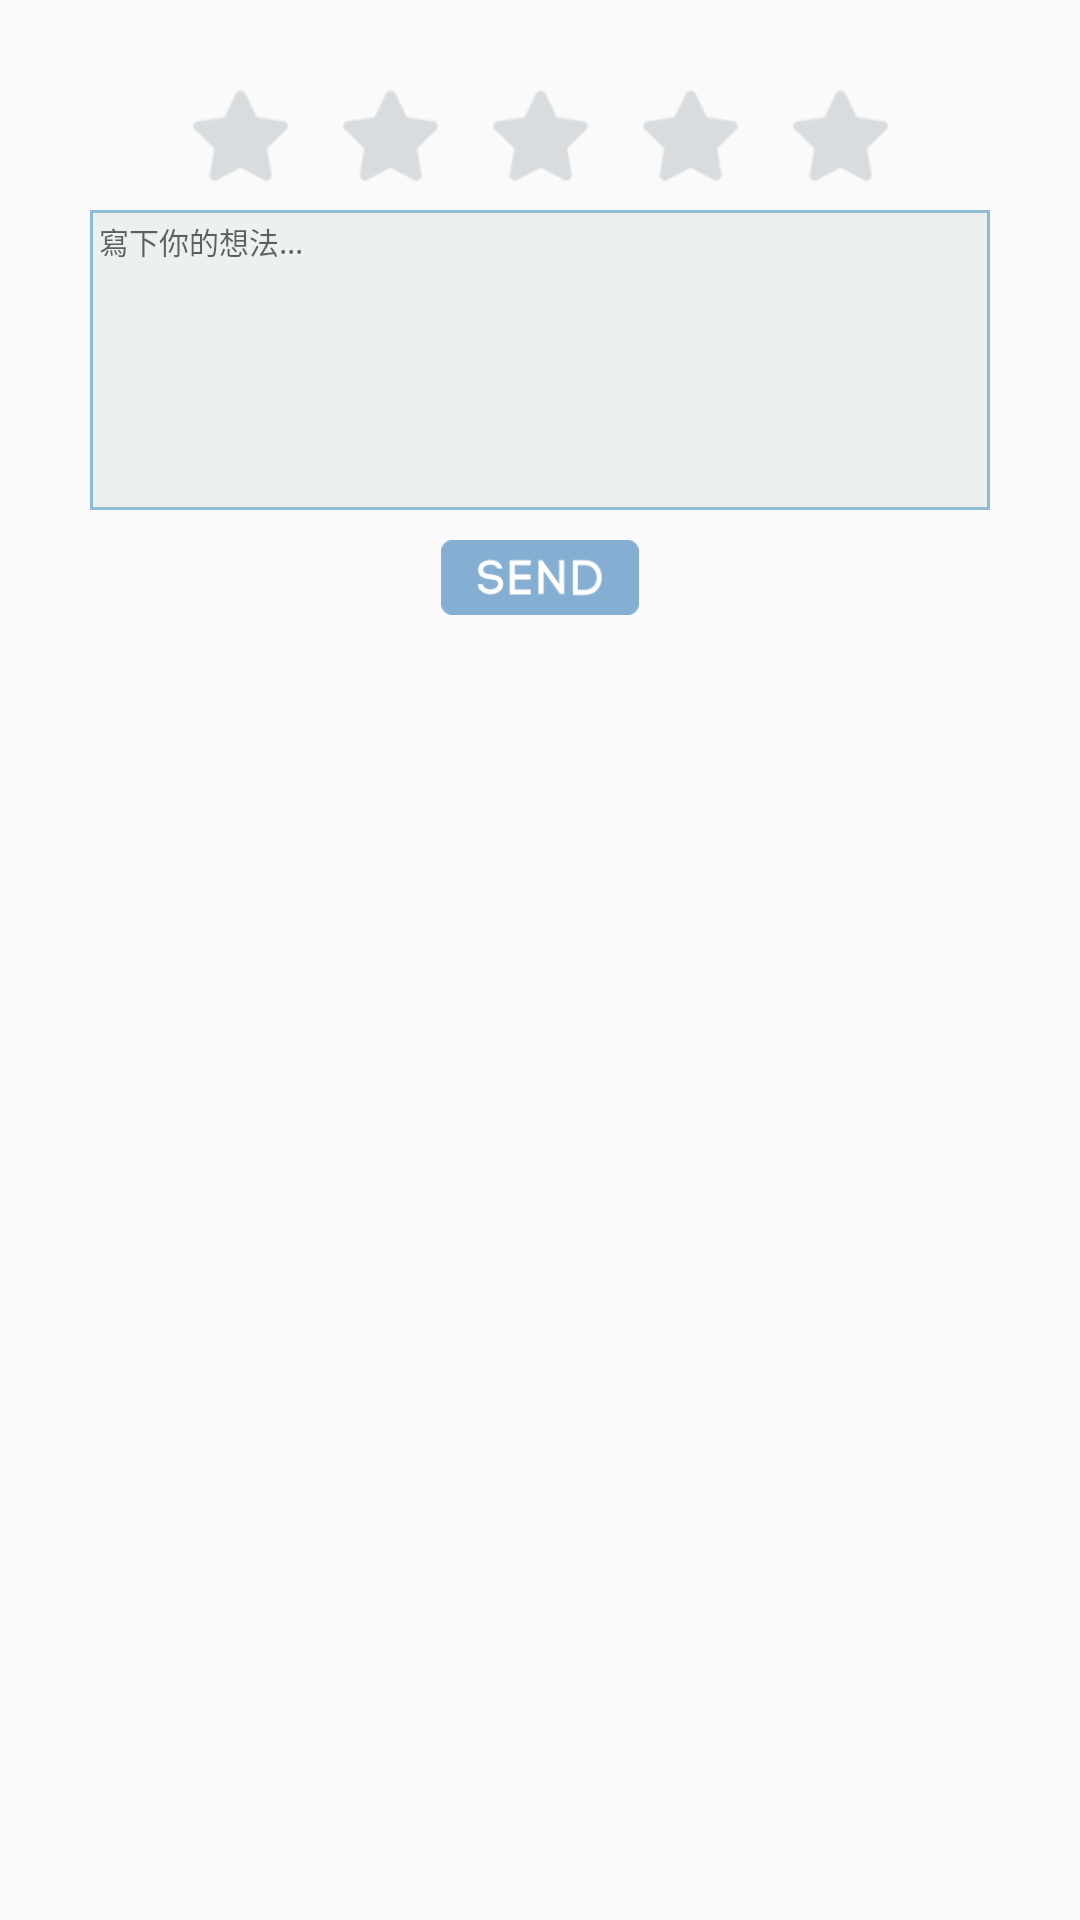

Point at icon controls on the screen. Image size 1080px x 1920px, points as (x=x, y=y).
star: (x=240, y=135), (x=390, y=135), (x=540, y=135), (x=690, y=135), (x=840, y=135)
